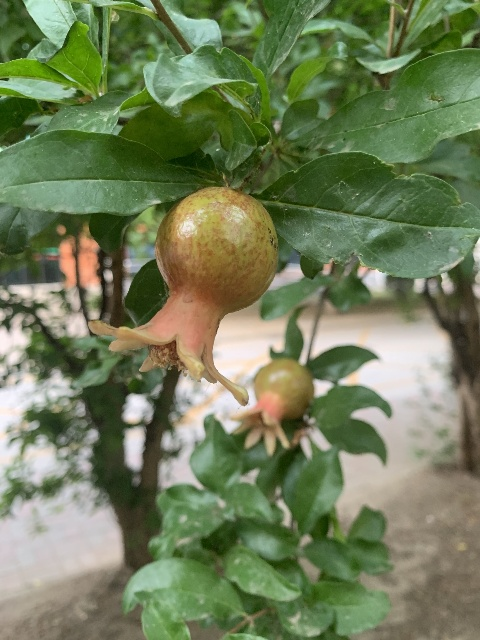early-fruit: (89, 187, 279, 400)
mid-growth: (229, 357, 313, 456)
